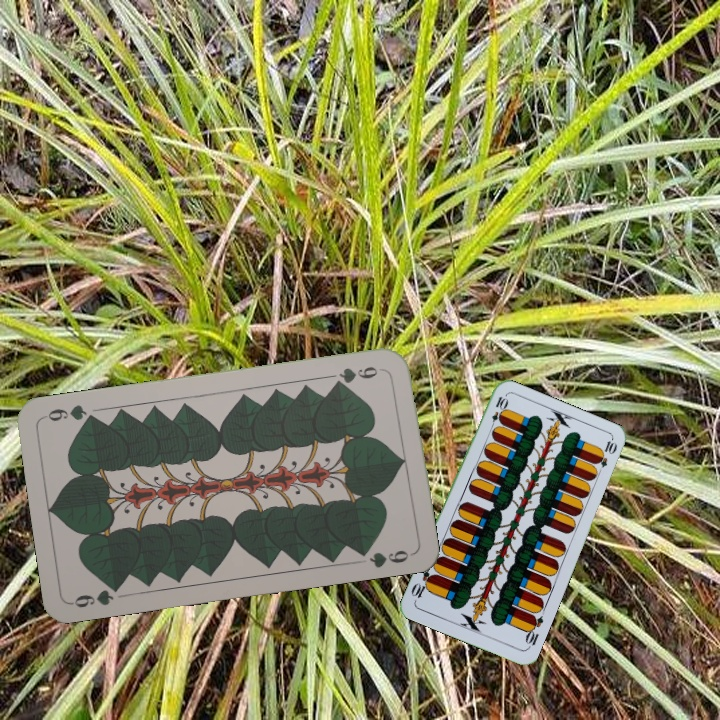E10: (521, 611, 546, 651), (486, 392, 509, 432)
G9: (68, 580, 125, 611), (329, 362, 387, 388)
